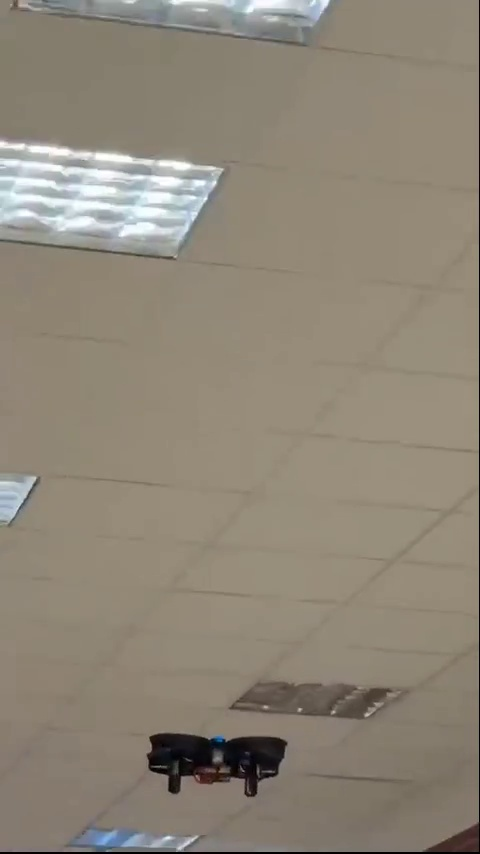drone: (141, 728, 294, 800)
